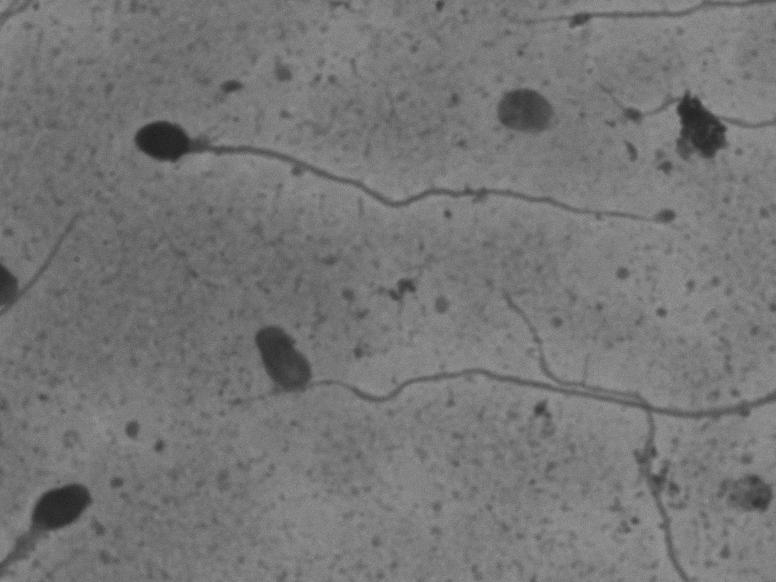Abnormal: (91, 107, 656, 240), (238, 287, 336, 422)
